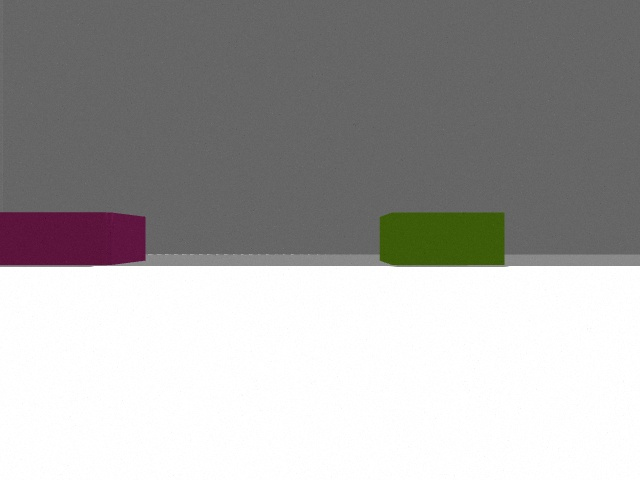green_drop_zone: (380, 212, 505, 265)
red_drop_zone: (0, 212, 146, 265)
